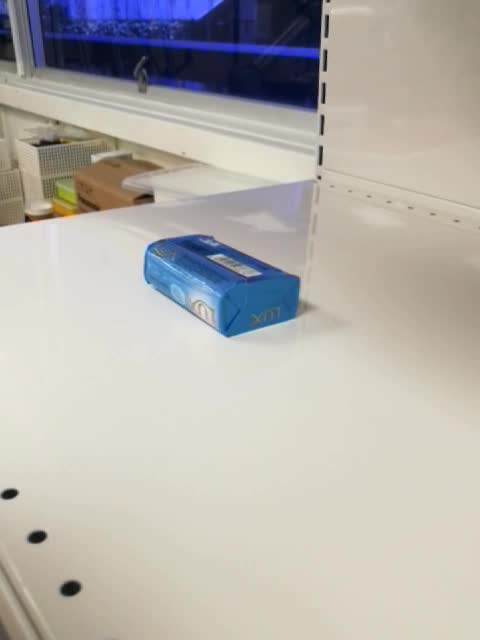soap: (142, 233, 302, 338)
